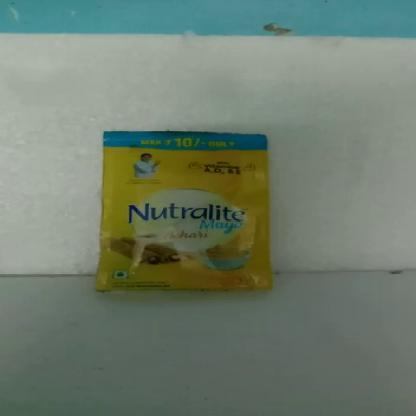Nutralite ACHARI MAYO 30g: (102, 131, 274, 291)
